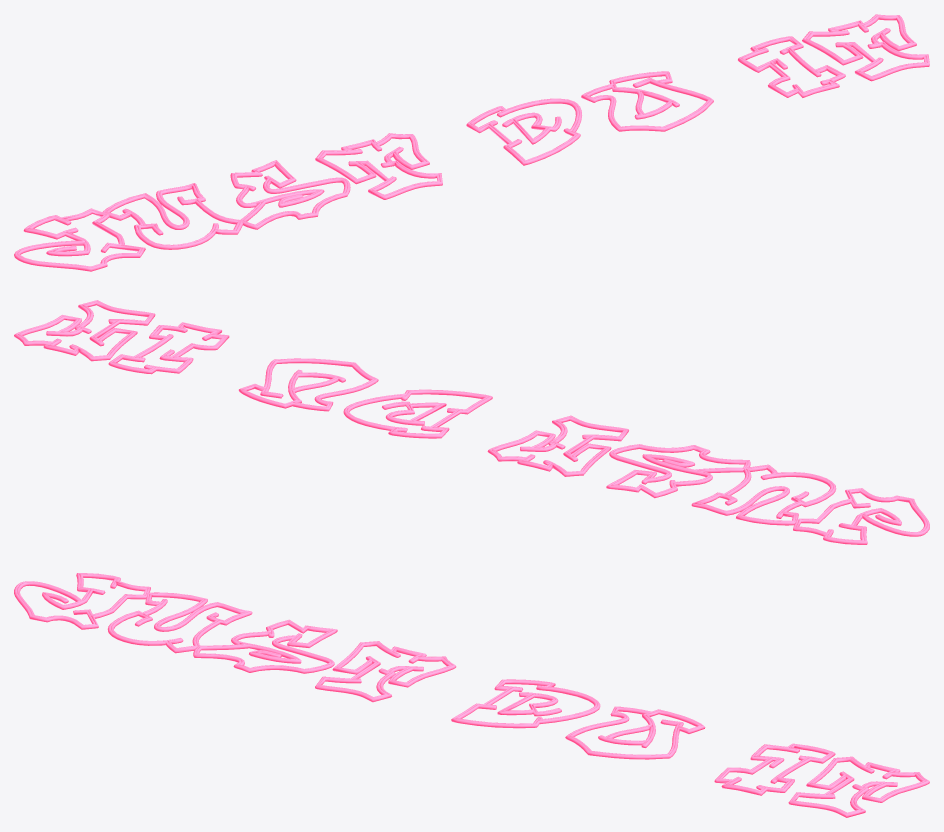
Rendered from JUST DO IT.fbx.
3 renders of one model, top to bottom at view 1: azimuth 30°, elevation 25°; view 2: azimuth 150°, elevation 25°; view 3: azimuth 330°, elevation 25°, orthographic. The views are drawn at different scales.
Visible parts, largest first — view 1: JUST DO IT; view 2: JUST DO IT; view 3: JUST DO IT.
Part boxes in pixels (box(x1,y1,x2,y2)): JUST DO IT: box(14, 14, 929, 271); JUST DO IT: box(14, 300, 929, 544); JUST DO IT: box(14, 573, 929, 817).
Bounding box in the file's own units: 524 × 2.02 × 65.94.
